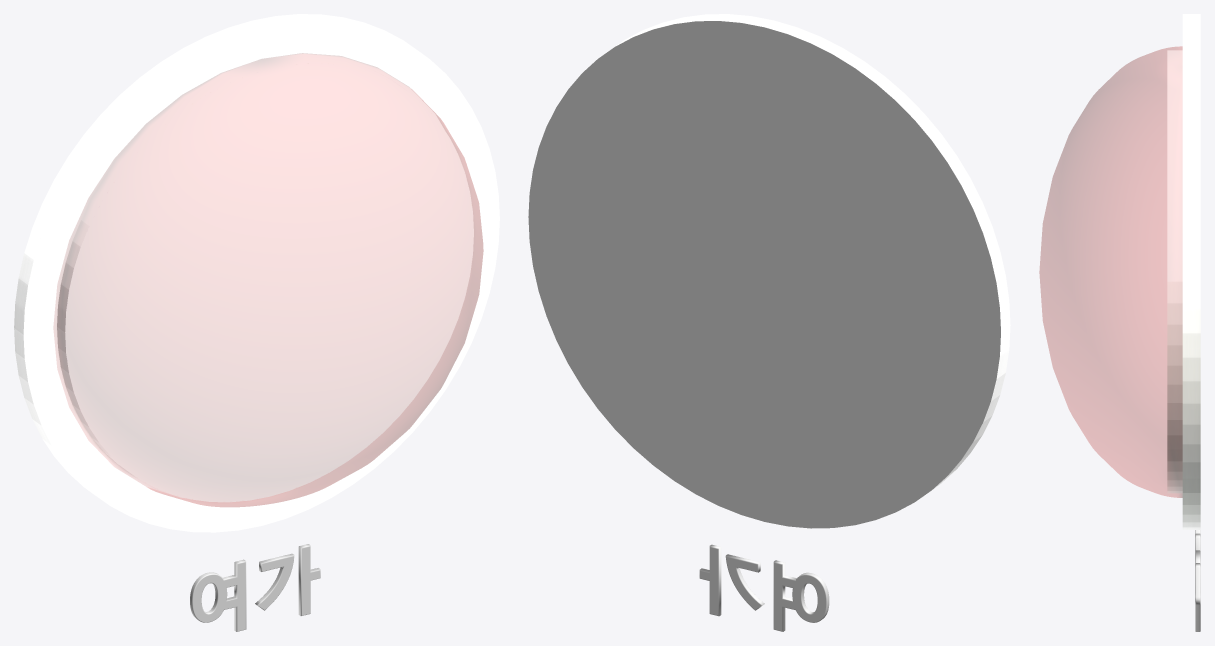
The model's file is button-a.glb.
The picture shows the model from 3 angles, left to right: view 1: azimuth 30°, elevation 25°; view 2: azimuth 150°, elevation 25°; view 3: azimuth 270°, elevation 25°; orthographic projection. The views are drawn at different scales.
Parts seen in each view (by area): view 1: Sphere.001, Cylinder.019, Cylinder.008, Text.077; view 2: Cylinder.008, Text.077; view 3: Sphere.001, Cylinder.008, Cylinder.019, Text.077.
Part boxes in pixels (x1,y1,x2,y2): Sphere.001: [54, 53, 483, 506]; Cylinder.019: [57, 57, 473, 502]; Cylinder.008: [14, 14, 499, 532]; Text.077: [190, 544, 320, 631]; Cylinder.008: [528, 14, 1010, 528]; Text.077: [699, 544, 829, 631]; Sphere.001: [1039, 46, 1182, 497]; Cylinder.008: [1182, 14, 1200, 529]; Cylinder.019: [1167, 50, 1182, 493]; Text.077: [1195, 530, 1200, 631].
Size of the model in its own units: 0.2199 by 0.2669 by 0.0686.
